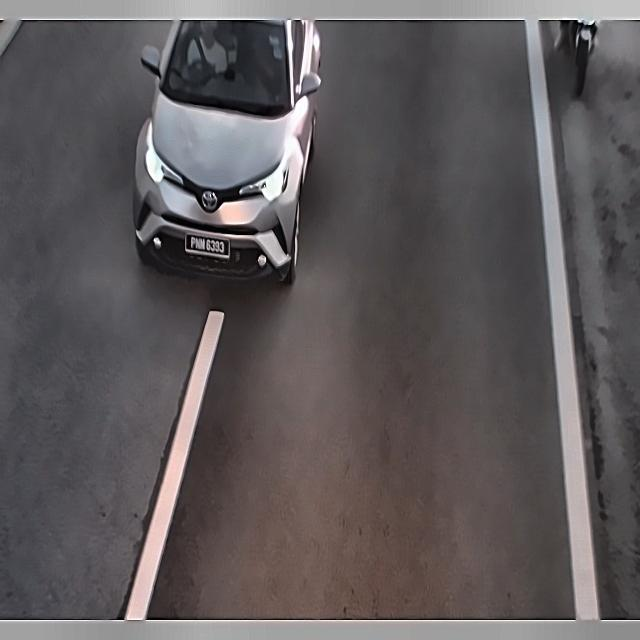car: (184, 224, 235, 269)
